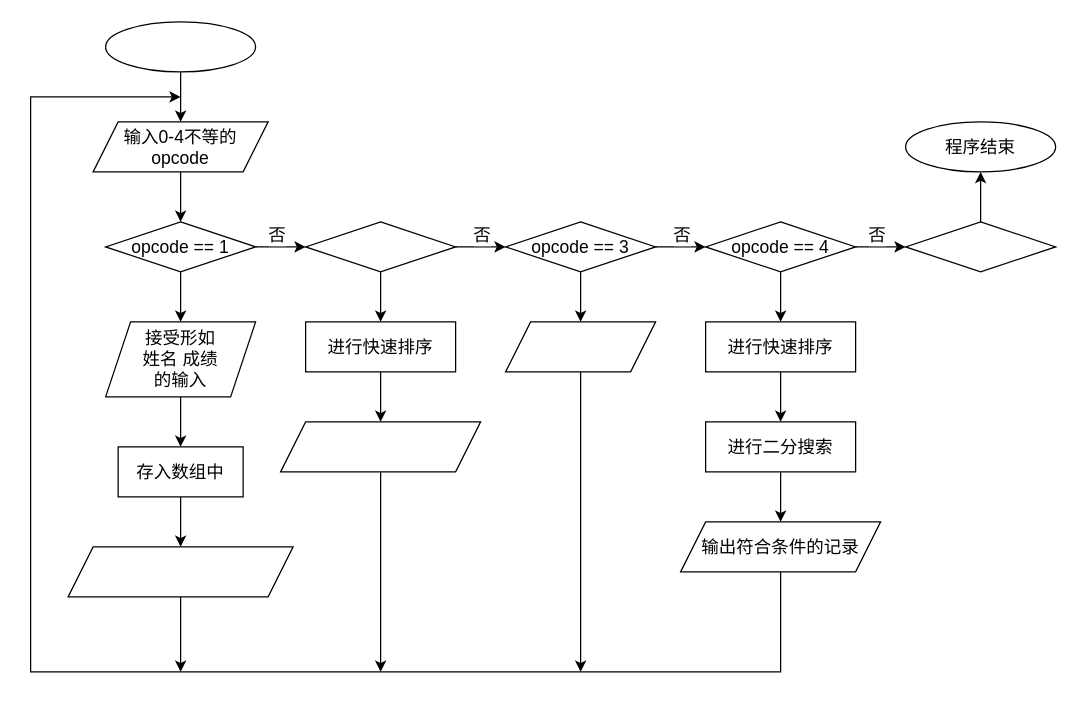
The diagram is 1078 pixels wide and 704 high, and some of its shapes have lost their labels. The centre of each missing label's shape, as x and y in pixels:
opcode == 0: [980,246]
opcode == 2: [380,246]
按格式输出 数组数据: [580,346]
程序开始: [180,46]
输出 %d records are input!: [180,571]
输出 Reorder finished!: [380,446]
